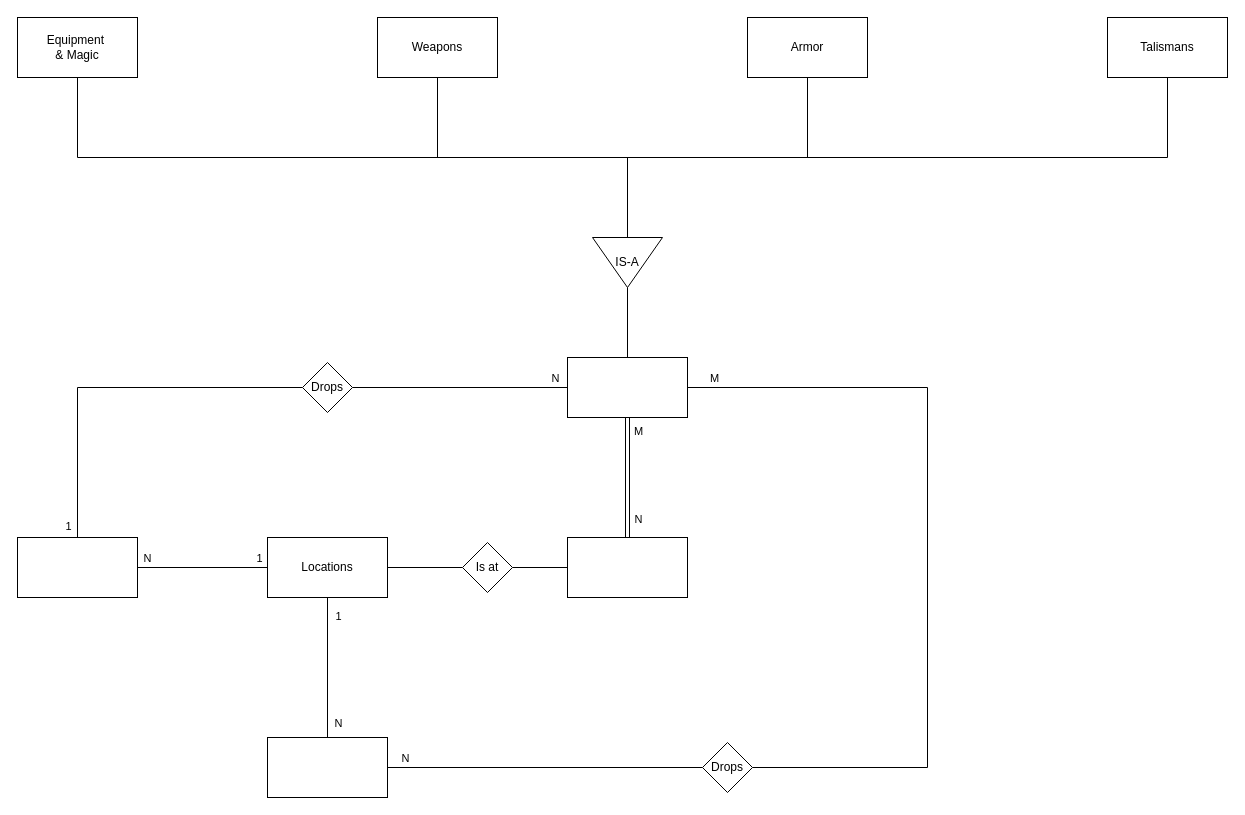
This 1245x815 diagram has some shape labels left out. Each missing label, with the centre of its shape:
"Bosses" belongs at point (77, 567).
"Character" belongs at point (627, 567).
"Enemies" belongs at point (327, 767).
"Item" belongs at point (627, 387).
